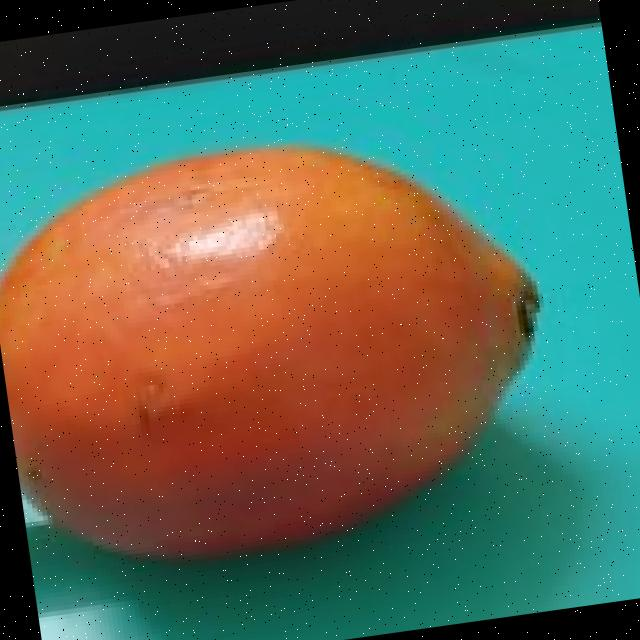Good_Pomegranate-50-60-days: (0, 154, 542, 569)
